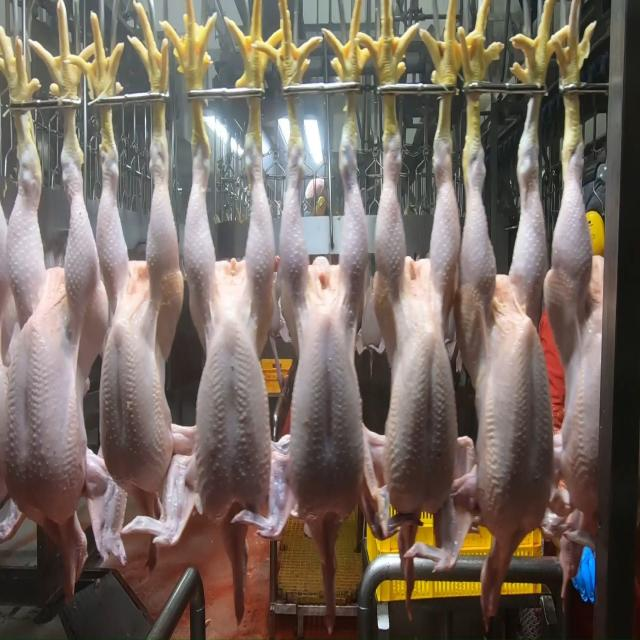chicken: (178, 133, 282, 521), (463, 130, 554, 534), (0, 144, 95, 521), (95, 137, 186, 522), (280, 153, 372, 526), (374, 132, 459, 508), (553, 136, 604, 518)
